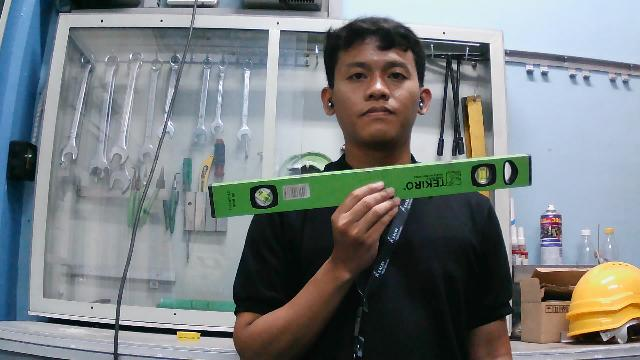water_pass: (208, 149, 537, 224)
